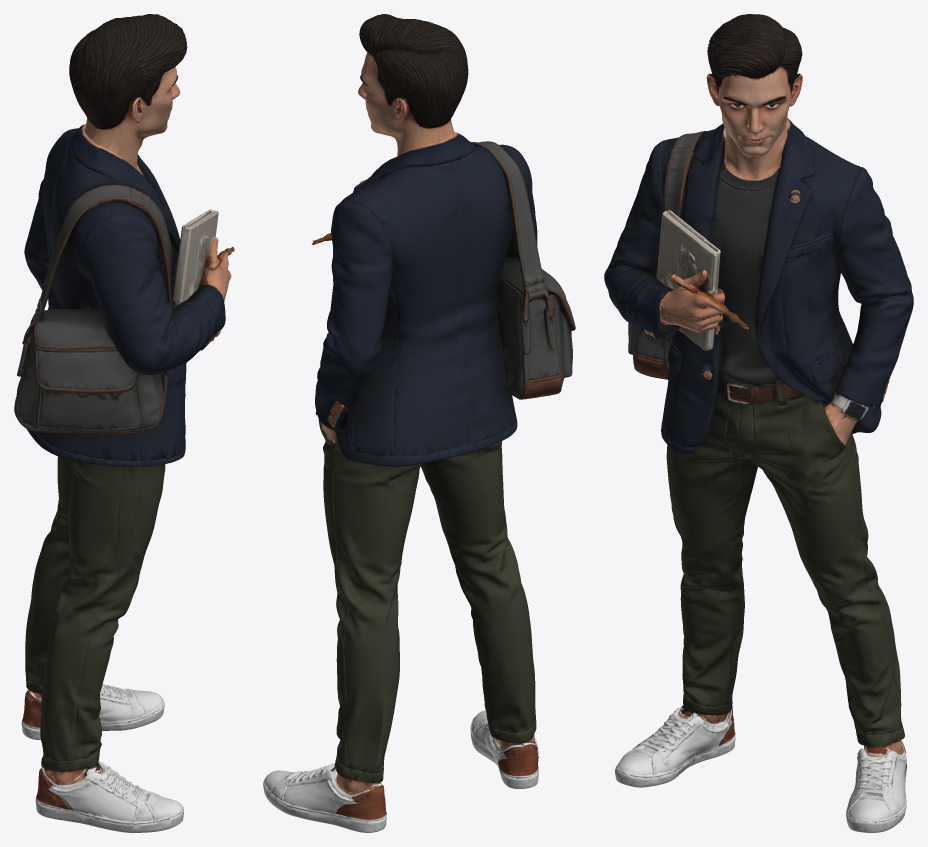
File: businessman_optimized.glb
3 renders of one model, left to right at view 1: azimuth 30°, elevation 25°; view 2: azimuth 150°, elevation 25°; view 3: azimuth 270°, elevation 25°, orthographic. The views are drawn at different scales.
Parts seen in each view (by area): view 1: tripo_node_cff42ecd-497a-46fb-9831-f4b35b107e4c; view 2: tripo_node_cff42ecd-497a-46fb-9831-f4b35b107e4c; view 3: tripo_node_cff42ecd-497a-46fb-9831-f4b35b107e4c.
Part boxes in pixels (left/top/right/bottom): tripo_node_cff42ecd-497a-46fb-9831-f4b35b107e4c: left=14, top=14, right=234, bottom=832; tripo_node_cff42ecd-497a-46fb-9831-f4b35b107e4c: left=263, top=14, right=575, bottom=832; tripo_node_cff42ecd-497a-46fb-9831-f4b35b107e4c: left=604, top=14, right=913, bottom=832.
Size of the model in its own units: 0.3186 by 0.9813 by 0.356.
Materials: 1 (1 with a texture image).
